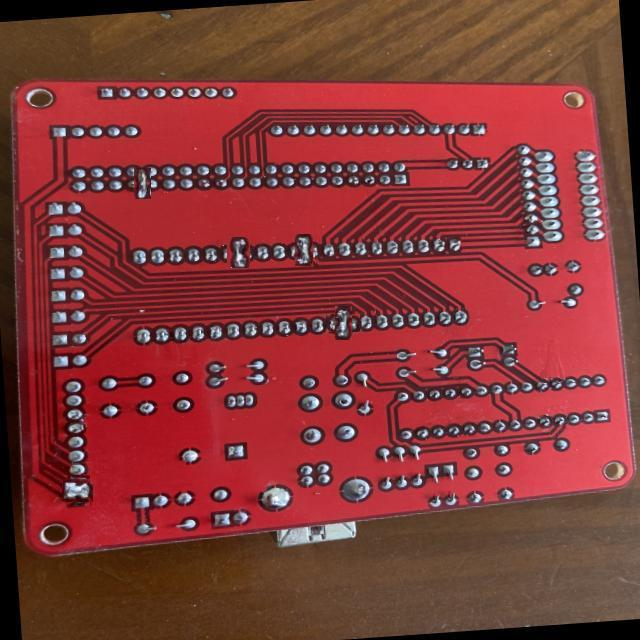damged: (64, 477, 92, 504), (225, 239, 252, 266), (330, 310, 356, 336), (130, 171, 155, 196), (292, 238, 316, 263)
